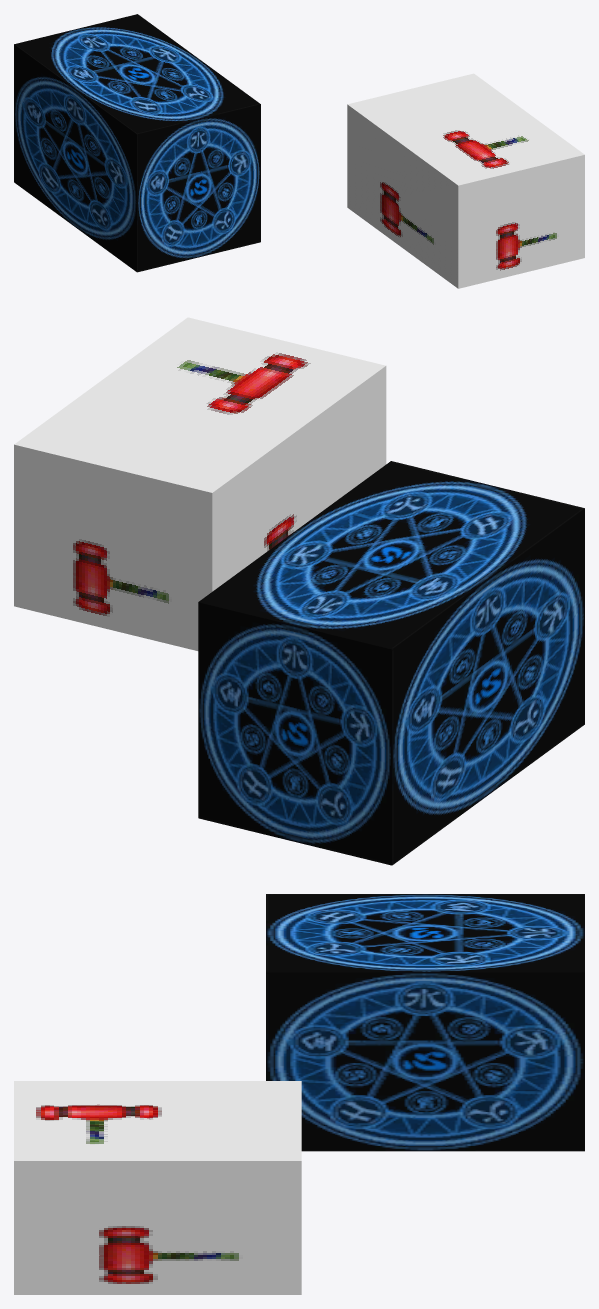
Rendered from BoxtoBox.FBX.
3 renders of one model, top to bottom at view 1: azimuth 30°, elevation 25°; view 2: azimuth 150°, elevation 25°; view 3: azimuth 270°, elevation 25°, orthographic. The views are drawn at different scales.
Parts seen in each view (by area): view 1: Box001, Box002; view 2: Box001, Box002; view 3: Box001, Box002.
Part boxes in pixels (x1,y1,x2,y2): Box001: (14,14,260,272); Box002: (347,73,584,288); Box001: (198,461,584,865); Box002: (14,317,386,650); Box001: (266,894,584,1151); Box002: (14,1081,301,1294).
Bounding box in the file's own units: 40.68 × 15.3 × 44.25.
Materials: 2 (2 with a texture image).
